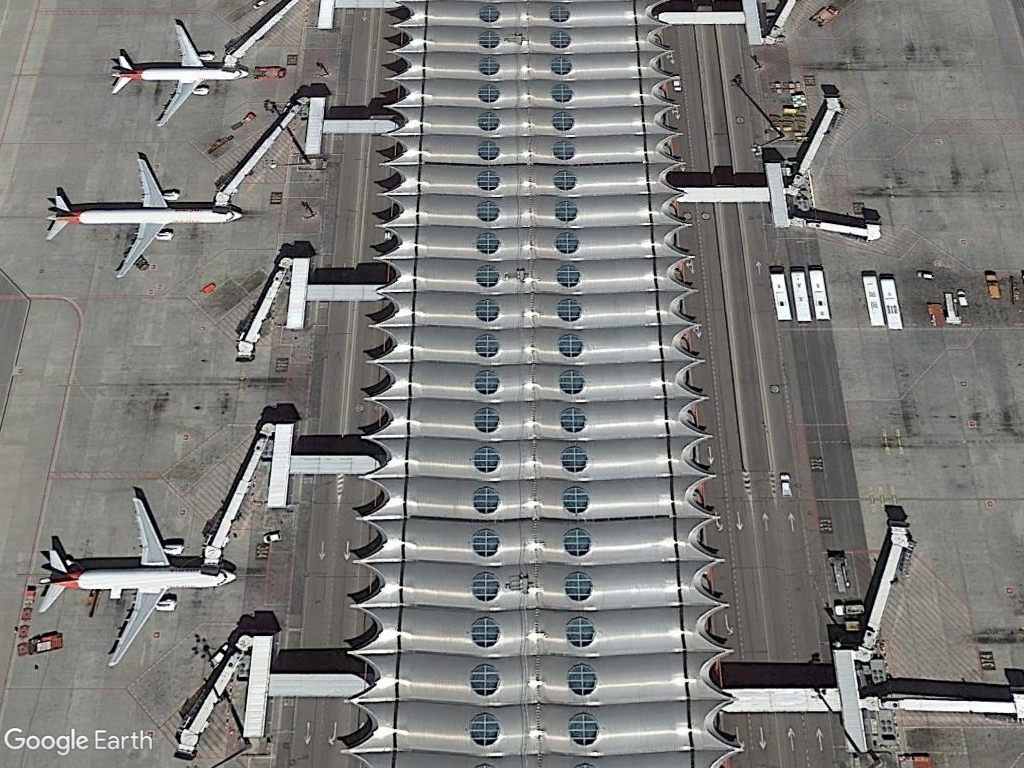airliner: (37, 488, 240, 670), (39, 155, 248, 280), (106, 21, 253, 128)
bus: (857, 269, 885, 330), (768, 266, 792, 323), (882, 270, 899, 333), (810, 265, 828, 324), (791, 266, 808, 325)
pushbacktruck: (252, 62, 287, 83)
